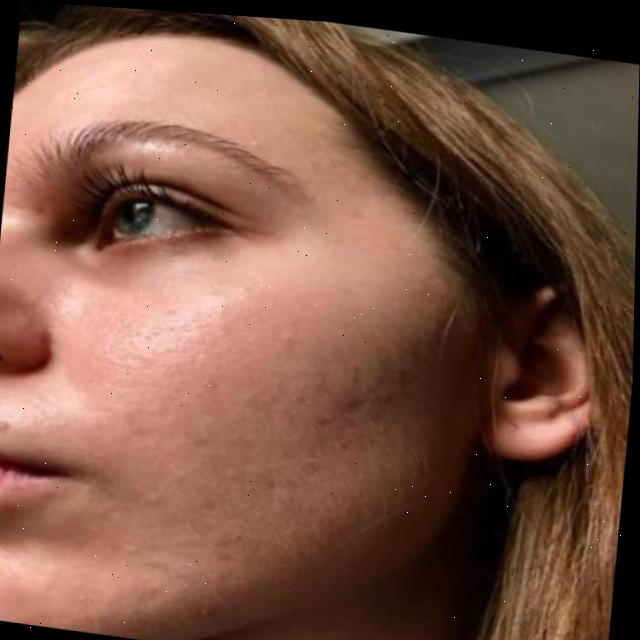Acne: (166, 246, 432, 489)
